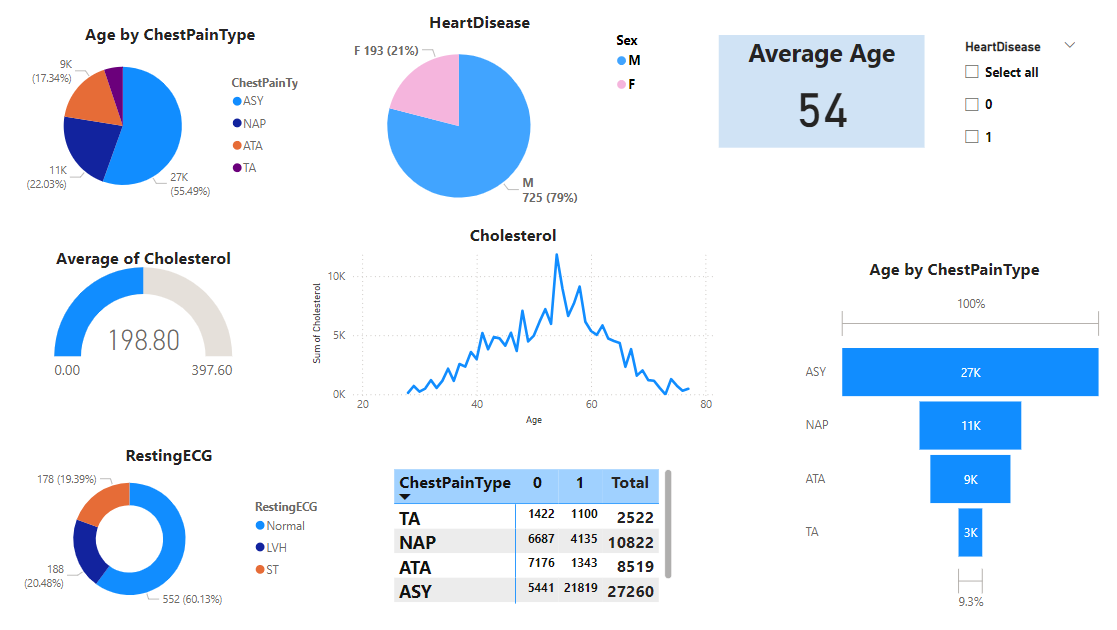

This screenshot's page, from the dashboard's own definition file:
{"tool":"powerbi","page":{"name":"Page 1","canvas":[1280,720],"ordinal":0},"visuals":[{"type":"pieChart","title":" Age by ChestPainType","fields":{"Category":["heart.ChestPainType"],"Y":["Sum(heart.Age)"]},"box":[11.2,26.2,366.2,217.5],"z":0},{"type":"lineChart","title":" Cholesterol ","fields":{"Category":["heart.Age"],"Y":["Sum(heart.Cholesterol)"]},"box":[351.2,256.2,470,235],"z":1000},{"type":"pieChart","title":" HeartDisease ","fields":{"Category":["heart.Sex"],"Y":["CountNonNull(heart.HeartDisease)"]},"box":[340,11.2,416.2,246.2],"z":2000},{"type":"donutChart","title":"RestingECG","fields":{"Category":["heart.RestingECG"],"Y":["CountNonNull(heart.Sex)"]},"box":[0,507.5,386.2,198.8],"z":3000},{"type":"slicer","fields":{"Values":["heart.HeartDisease"]},"box":[1090,40,151.2,178.8],"z":4000},{"type":"funnel","title":" Age by ChestPainType","fields":{"Category":["heart.ChestPainType"],"Y":["Sum(heart.Age)"]},"box":[915,293.8,350,426.2],"z":5000},{"type":"pivotTable","fields":{"Rows":["heart.ChestPainType"],"Values":["Sum(heart.Age)"],"Columns":["heart.HeartDisease"]},"box":[445,531.2,327.5,163.8],"z":6000},{"type":"card","title":"Average Age","fields":{"Values":["Avg(heart.Age)"]},"box":[821.2,40,235,129],"z":7000},{"type":"gauge","fields":{"Y":["Avg(heart.Cholesterol)"]},"box":[31.2,281.2,265,162.5],"z":8000}]}

Visuals, with their boxes in screenshot pixels (x1, y1, x2, y2), scaled from the page's 1280x720 canvas onto the 1117x630 screenshot:
" Age by ChestPainType" pieChart: 10/23/329/213
" Cholesterol " lineChart: 306/224/717/430
" HeartDisease " pieChart: 297/10/660/225
"RestingECG" donutChart: 0/444/337/618
slicer - heart.HeartDisease: 951/35/1083/191
" Age by ChestPainType" funnel: 798/257/1104/629
pivotTable - heart.ChestPainType x Sum(heart.Age): 388/465/674/608
"Average Age" card: 717/35/922/148
gauge - Avg(heart.Cholesterol): 27/246/258/388
